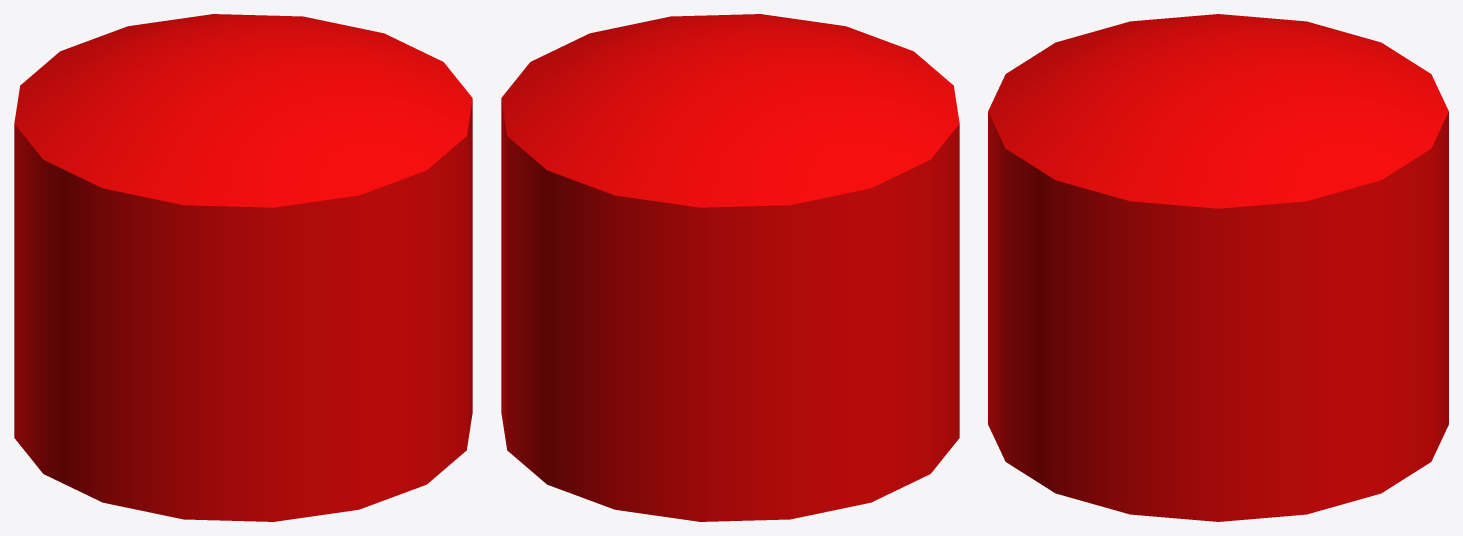
3 views of the same model, side by side, from view 1: azimuth 30°, elevation 25°; view 2: azimuth 150°, elevation 25°; view 3: azimuth 270°, elevation 25° (orthographic).
Visible parts, largest first — view 1: Oil_Tank; view 2: Oil_Tank; view 3: Oil_Tank.
Boxes of the visible parts, bbox=[...] form: Oil_Tank: bbox=[14, 14, 472, 521]; Oil_Tank: bbox=[501, 14, 959, 521]; Oil_Tank: bbox=[988, 14, 1448, 521].
Size of the model in its own units: 200 by 200 by 200.
